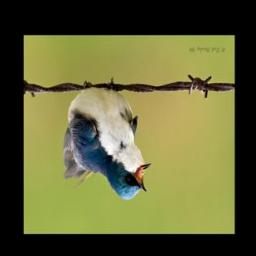Swallow: (63, 78, 154, 204)
